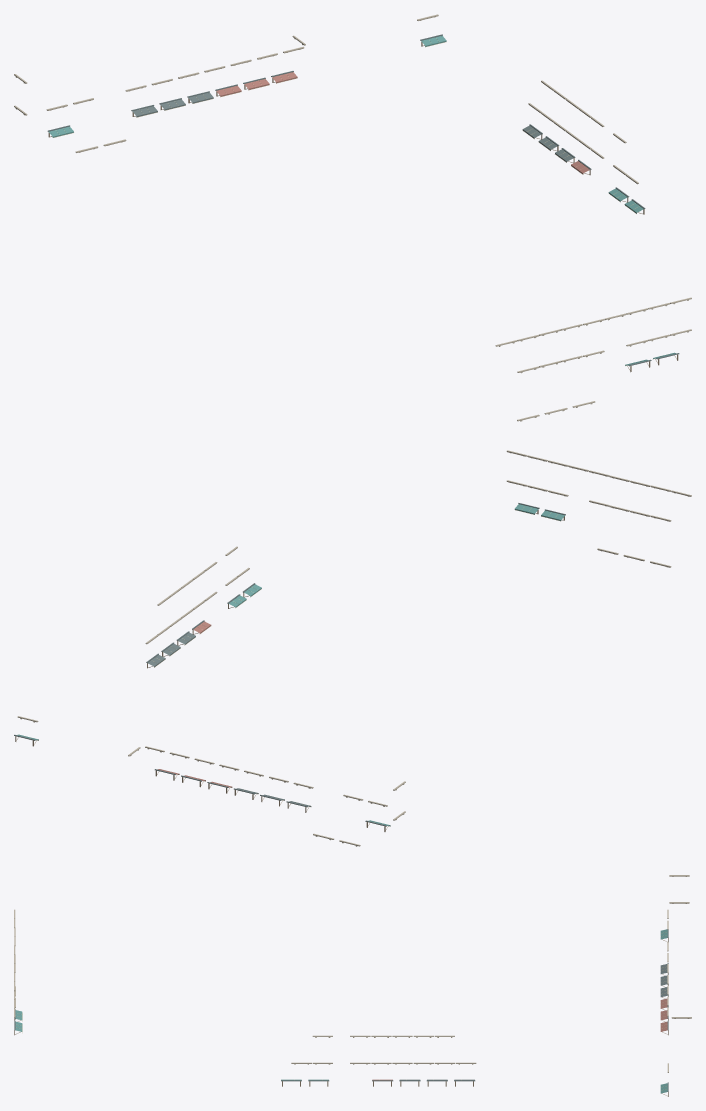
The model's file is library.glb.
The picture shows the model from 3 angles, top to bottom: view 1: azimuth 30°, elevation 25°; view 2: azimuth 150°, elevation 25°; view 3: azimuth 270°, elevation 25°; orthographic projection. The views are drawn at different scales.
Parts seen in each view (by area): view 1: stone, enamel, canvas, wine; view 2: stone, enamel, bronze, canvas; view 3: stone, enamel, canvas.
Boxes of the visible parts, left/top/right/bottom form: stone: left=14, top=14, right=691, bottom=421; enamel: left=47, top=34, right=679, bottom=366; canvas: left=48, top=35, right=675, bottom=365; wine: left=216, top=72, right=589, bottom=174; stone: left=17, top=450, right=691, bottom=846; enamel: left=14, top=503, right=565, bottom=826; bronze: left=15, top=452, right=689, bottom=831; canvas: left=17, top=504, right=564, bottom=826; stone: left=14, top=875, right=691, bottom=1072; enamel: left=14, top=929, right=668, bottom=1091; canvas: left=15, top=929, right=667, bottom=1093.
Bounding box in the file's own units: 44.65 × 8.42 × 74.42.
